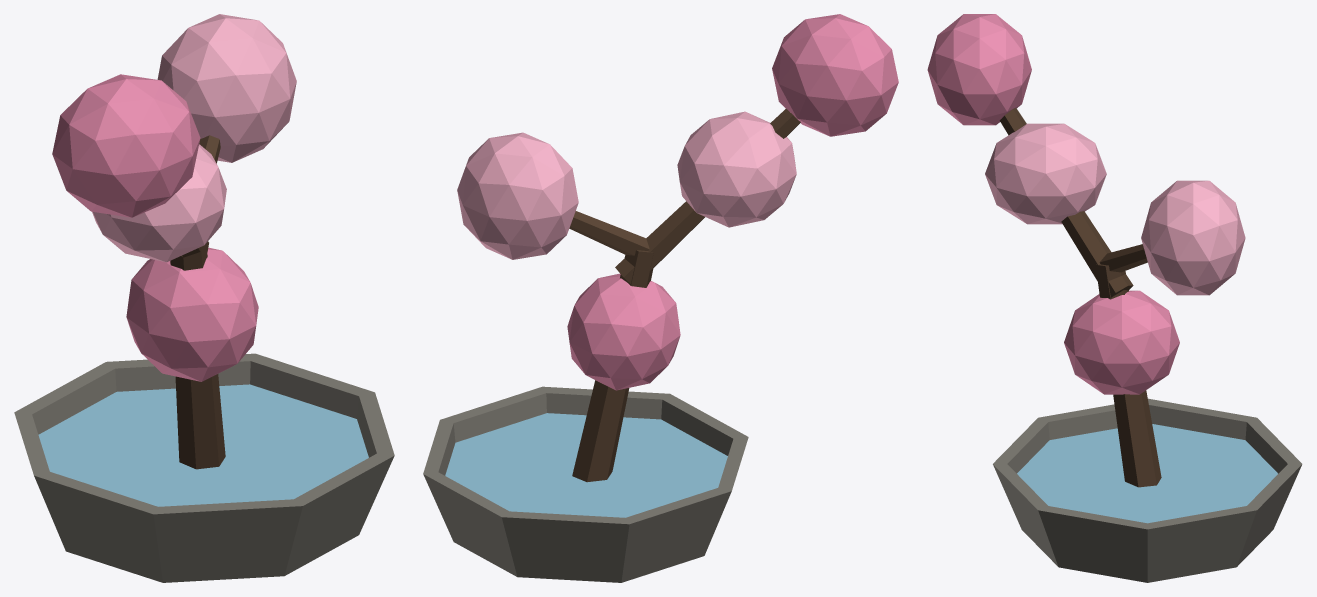
File: sakura_prop_ikebana.glb
3 views of the same model, side by side, from view 1: azimuth 30°, elevation 25°; view 2: azimuth 150°, elevation 25°; view 3: azimuth 270°, elevation 25° (orthographic). The views are drawn at different scales.
Visible parts, largest first — view 1: sakura_prop_ikebana; view 2: sakura_prop_ikebana; view 3: sakura_prop_ikebana.
Part boxes in pixels (left/top/right/bottom): sakura_prop_ikebana: left=14, top=14, right=394, bottom=582; sakura_prop_ikebana: left=423, top=14, right=898, bottom=582; sakura_prop_ikebana: left=927, top=14, right=1302, bottom=582.
Bounding box in the file's own units: 0.472 × 0.6042 × 0.4649.
1 material, 1 textured.
